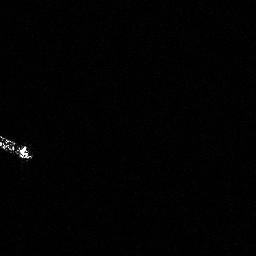ship: (1, 131, 35, 164)
